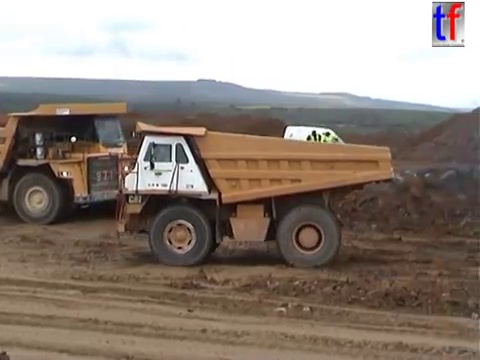truck: (110, 119, 396, 270), (1, 99, 139, 226)
worker: (321, 129, 340, 163), (305, 128, 322, 163)
